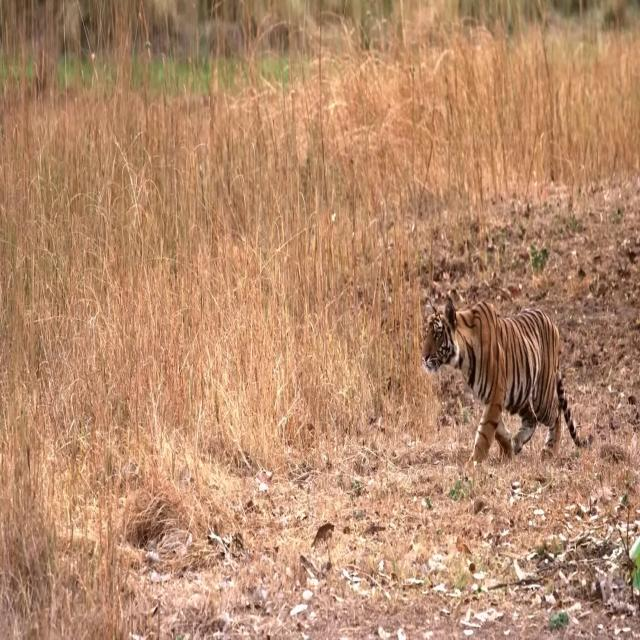tiger: (422, 295, 594, 464)
